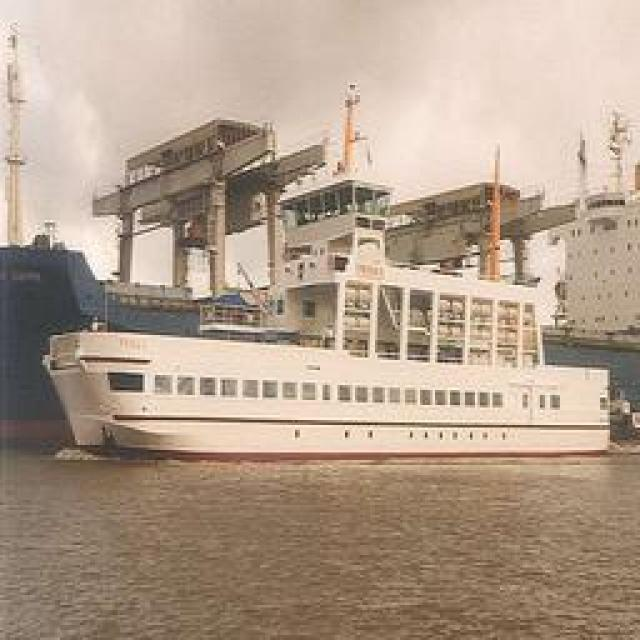CIV_Ship: (44, 322, 608, 466)
